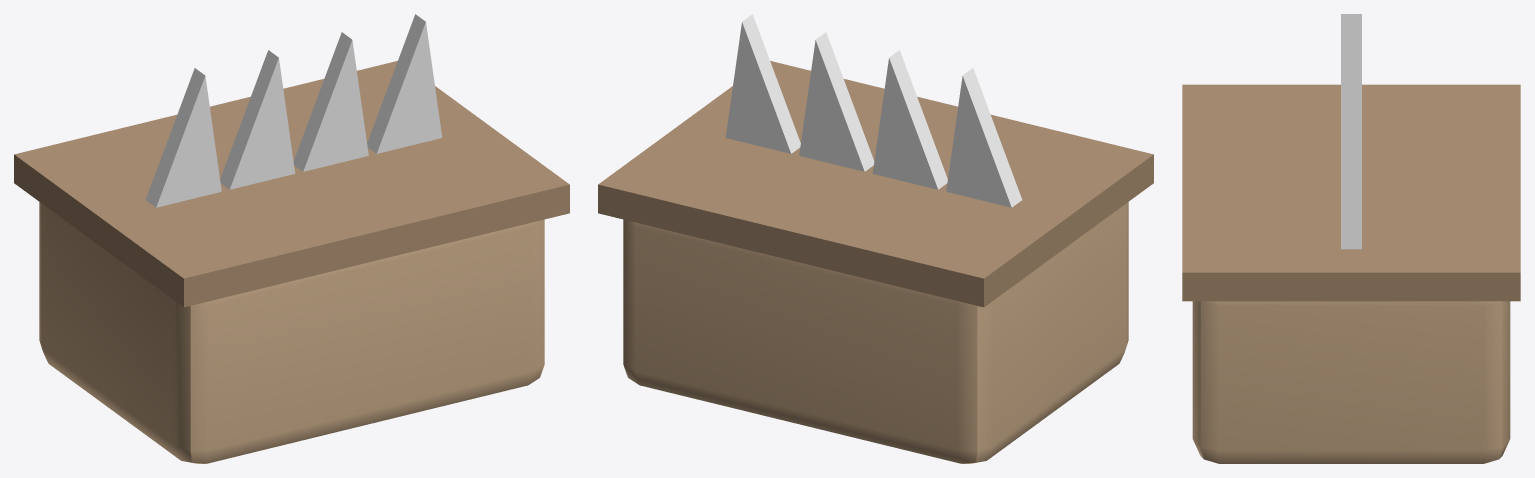
Rendered from FinBox.fbx.
3 views of the same model, side by side, from view 1: azimuth 30°, elevation 25°; view 2: azimuth 150°, elevation 25°; view 3: azimuth 270°, elevation 25° (orthographic).
Visible parts, largest first — view 1: FinBox; view 2: FinBox; view 3: FinBox.
Boxes of the visible parts, x1,y1,x2,y2 form: FinBox: (14, 14, 569, 463); FinBox: (598, 14, 1153, 463); FinBox: (1182, 14, 1520, 463).
Bounding box in the file's own units: 0.42 × 0.34 × 0.32.
